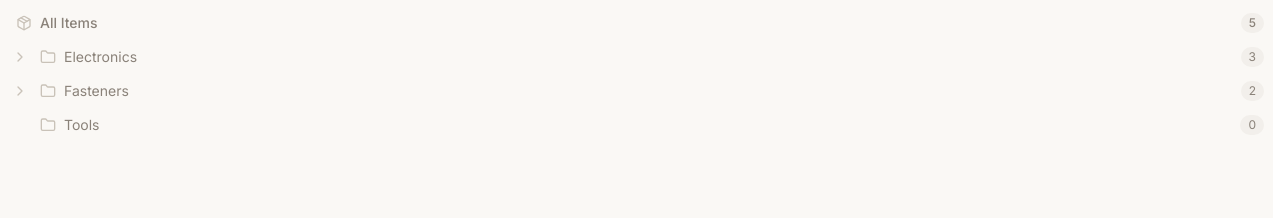
Test: InventorySidebar › expand/collapse › should collapse category when clicking expanded category
Click the button named "expand electronics" at (20, 57), box [8, 45, 32, 69]
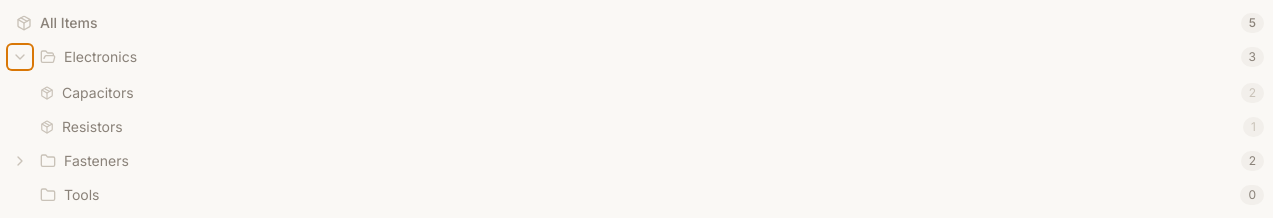
Expected: the text "Capacitors" is shown, [62, 84, 134, 101]
Click the button named "collapse electronics" at (20, 57), box [8, 45, 32, 69]
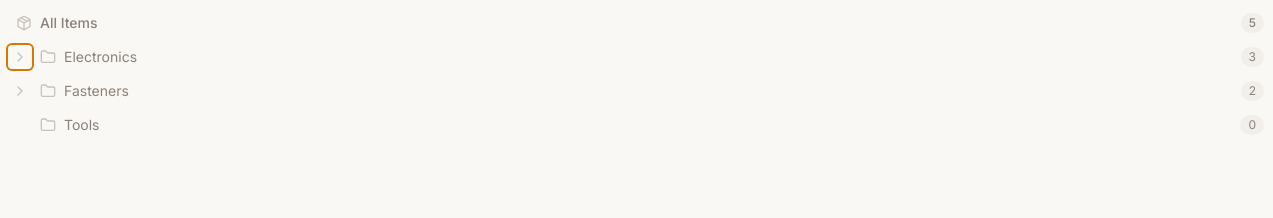
Expected: the button "Capacitors" is gone
